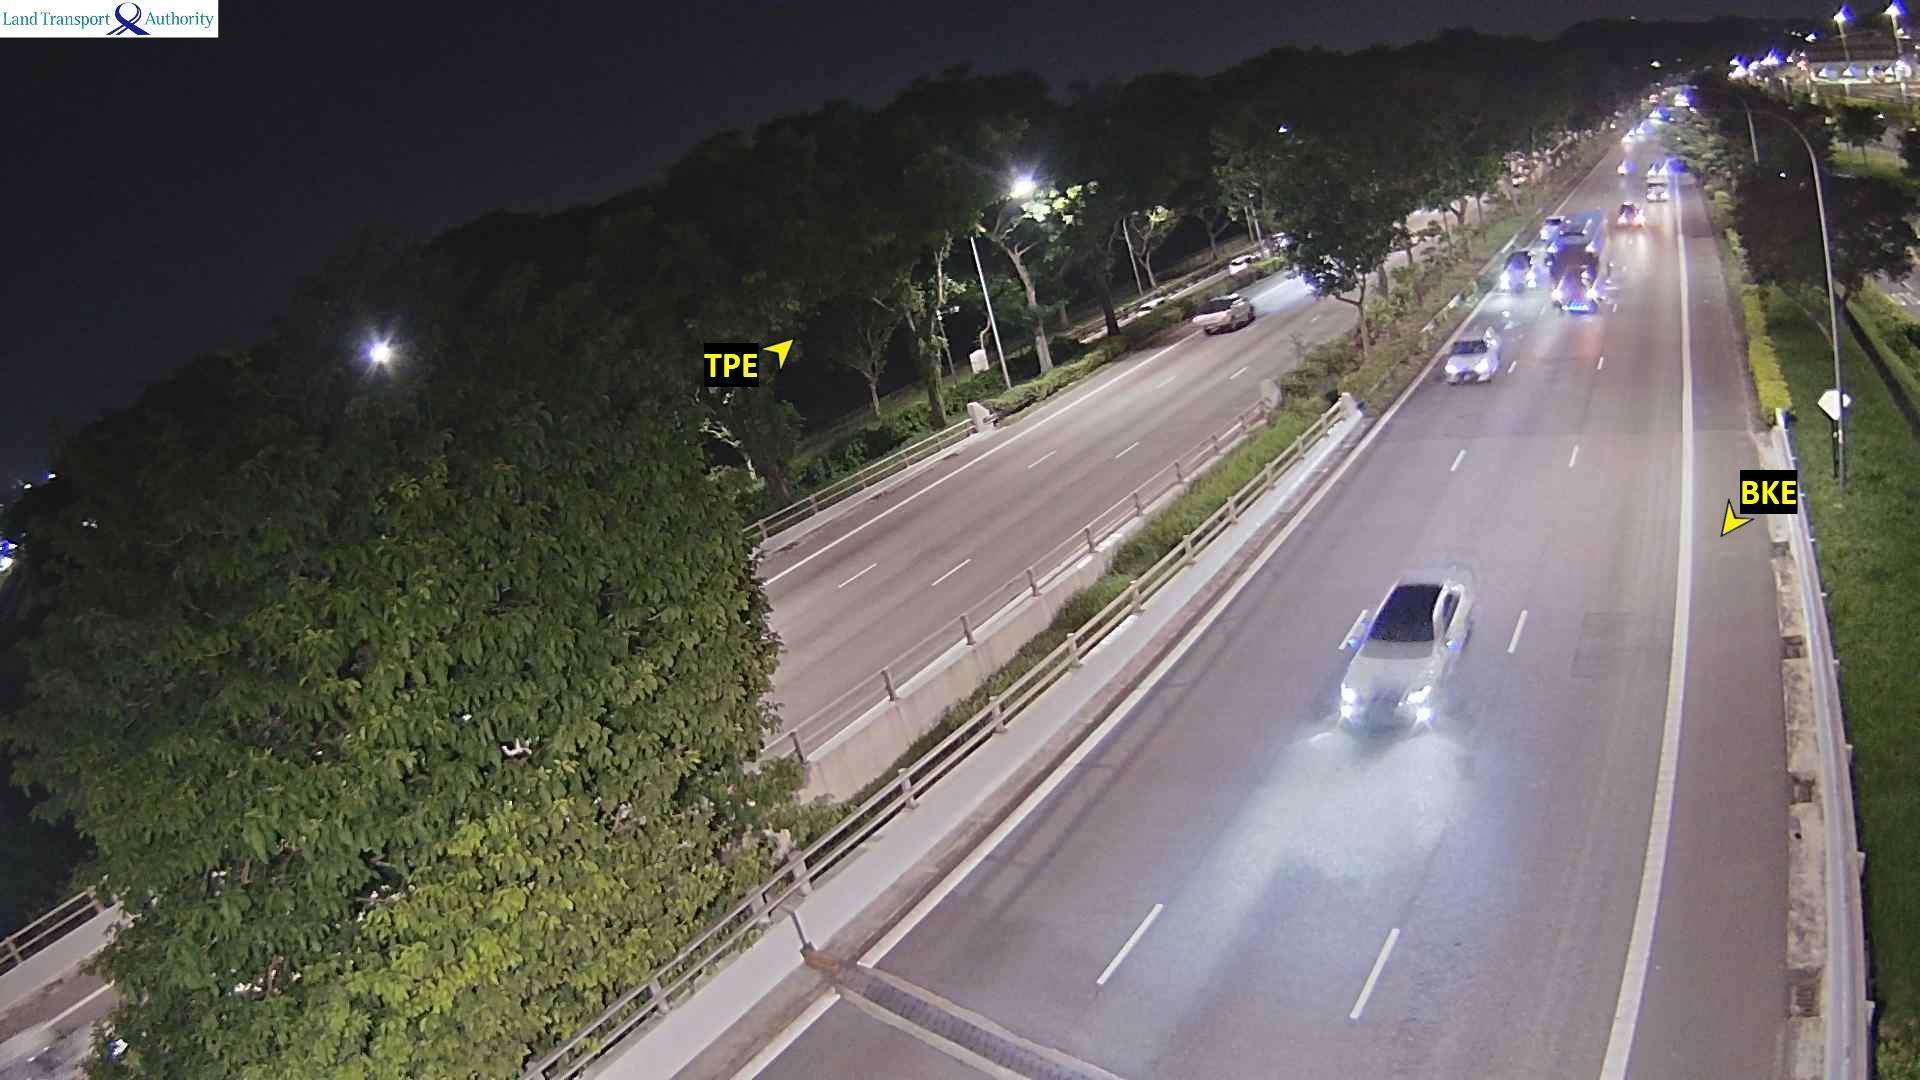cars: (1336, 571, 1475, 736), (1726, 45, 1916, 90), (1543, 208, 1605, 273), (1442, 327, 1500, 384), (1191, 292, 1254, 334), (1549, 264, 1600, 312), (1496, 249, 1536, 293), (1615, 200, 1644, 229), (1539, 213, 1566, 242), (1672, 84, 1698, 108), (1649, 105, 1675, 123), (1645, 184, 1668, 201), (1664, 154, 1685, 172), (1616, 158, 1634, 175), (1620, 132, 1637, 149)
